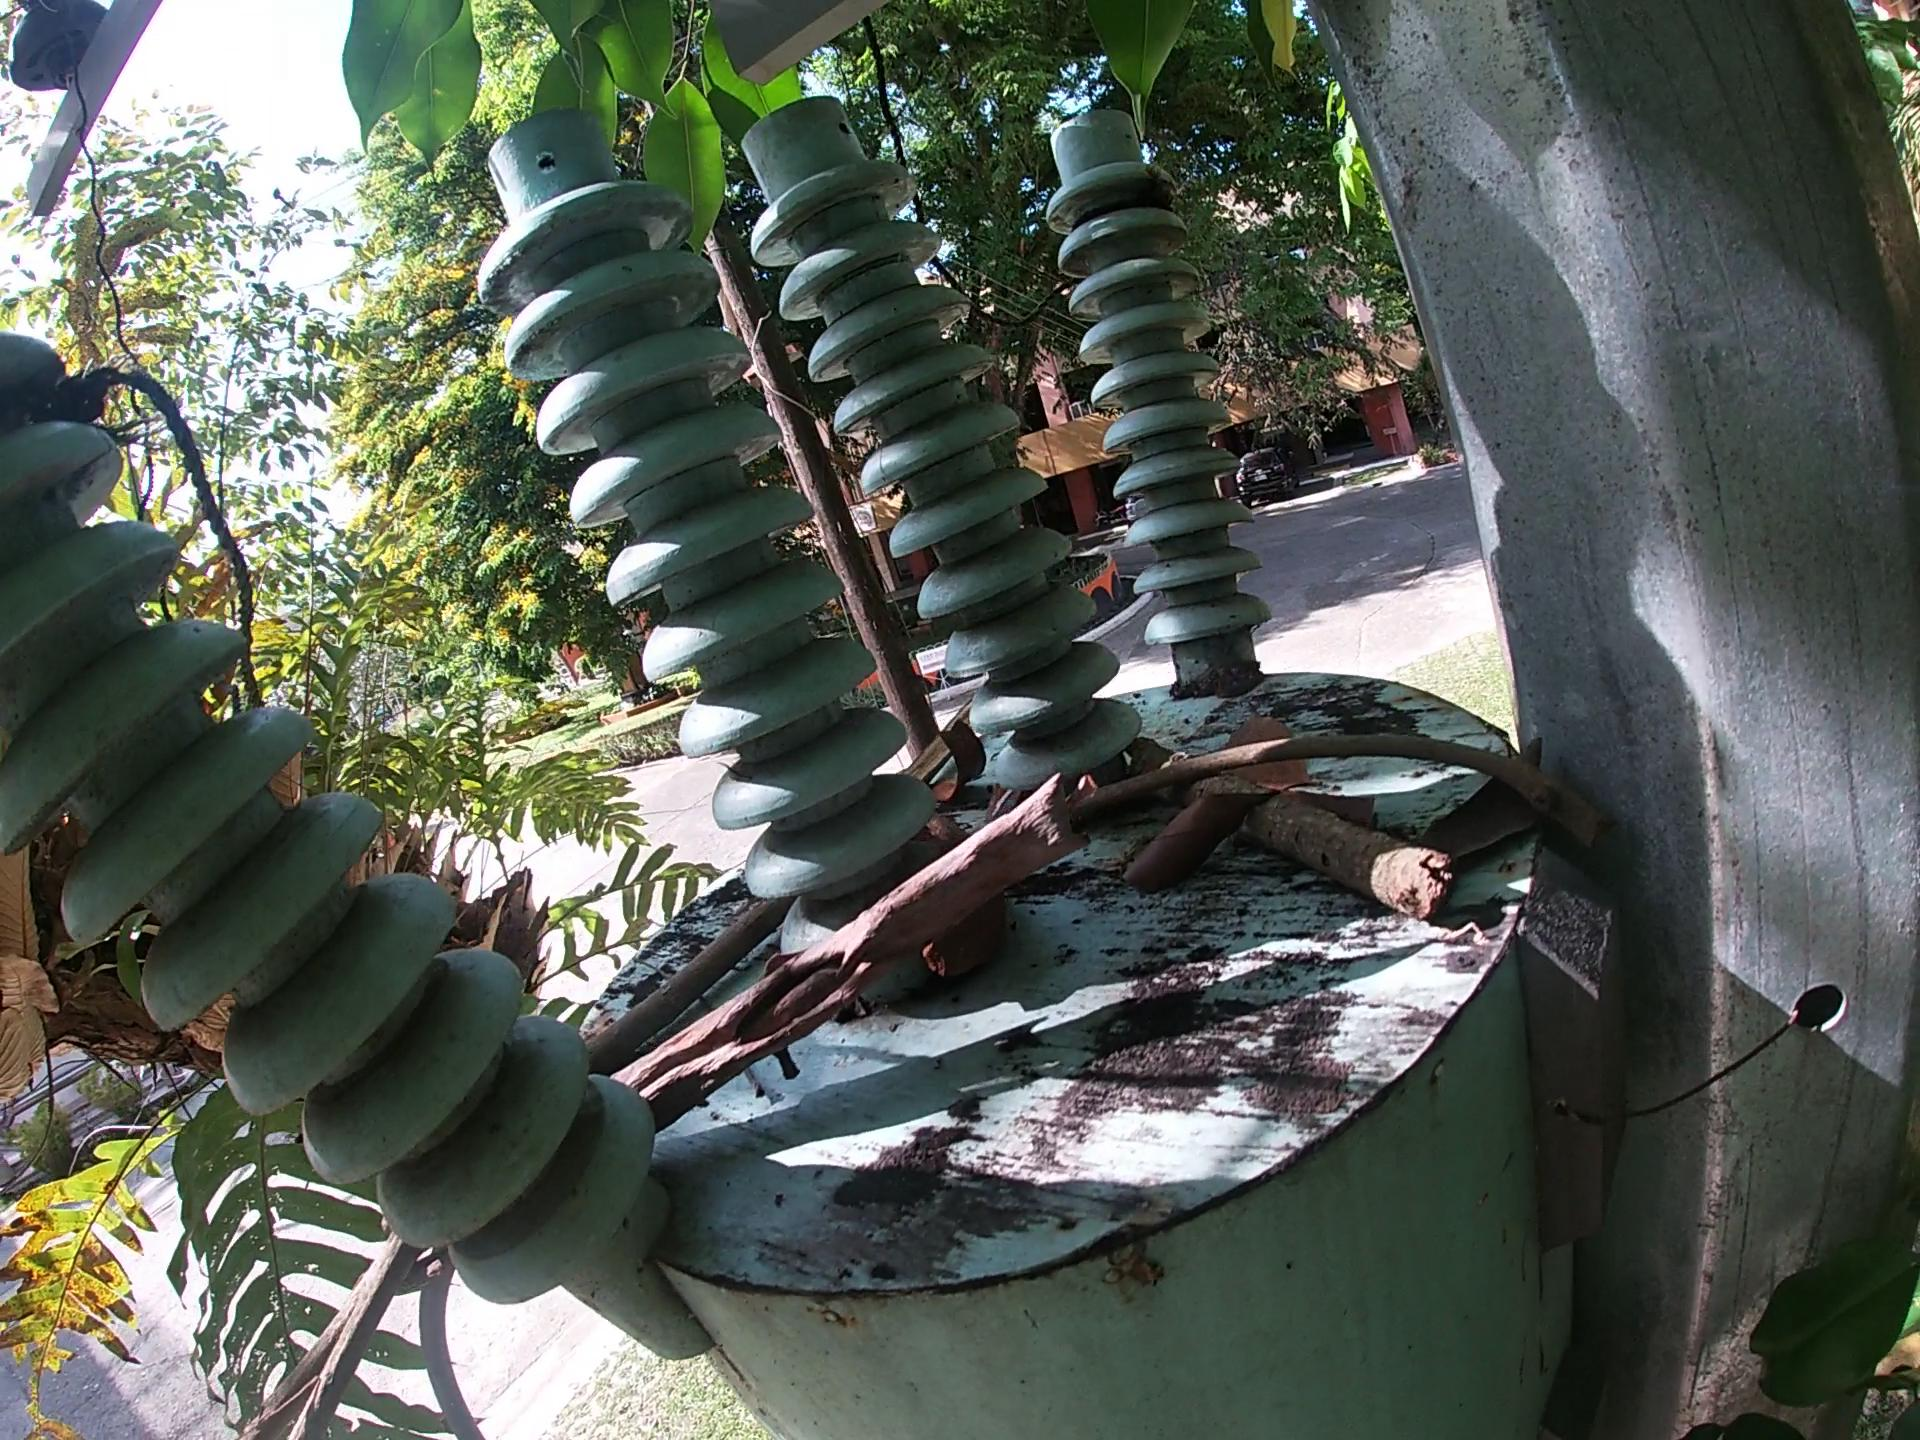leaf: (1120, 779, 1277, 902), (1412, 735, 1548, 859), (1222, 708, 1321, 787)
mahogany fruit: (906, 803, 1016, 985), (918, 717, 992, 815)
tree branch: (617, 768, 1096, 1131), (1075, 728, 1627, 852), (1119, 737, 1457, 929), (581, 888, 795, 1078), (233, 1230, 416, 1440)
